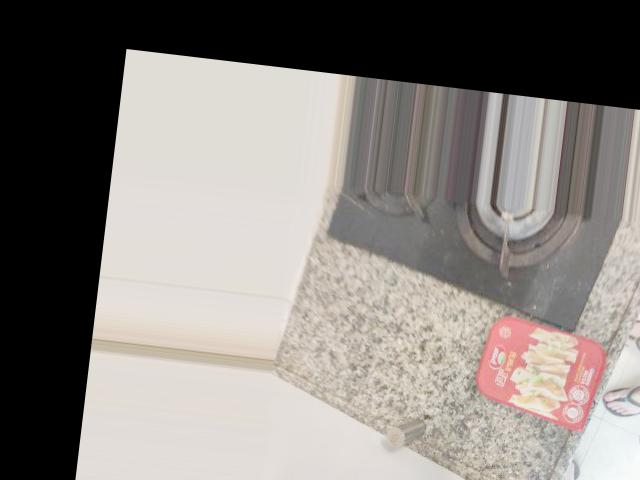cheese: (341, 265, 511, 410)
